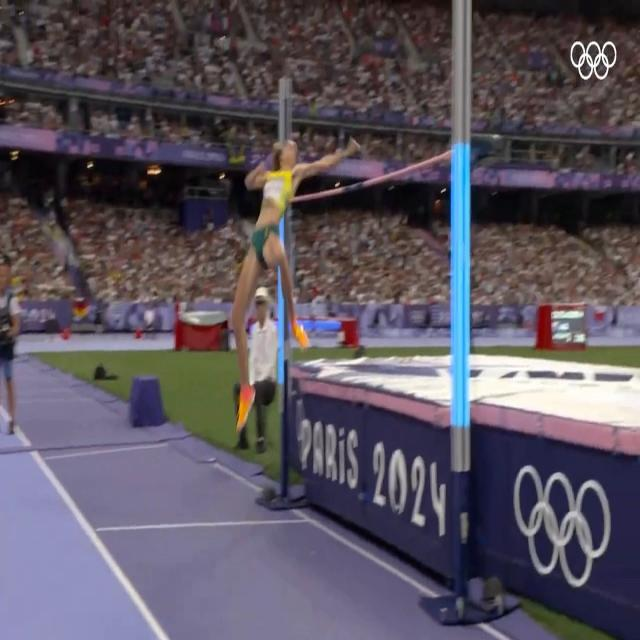jump: (230, 140, 339, 428)
